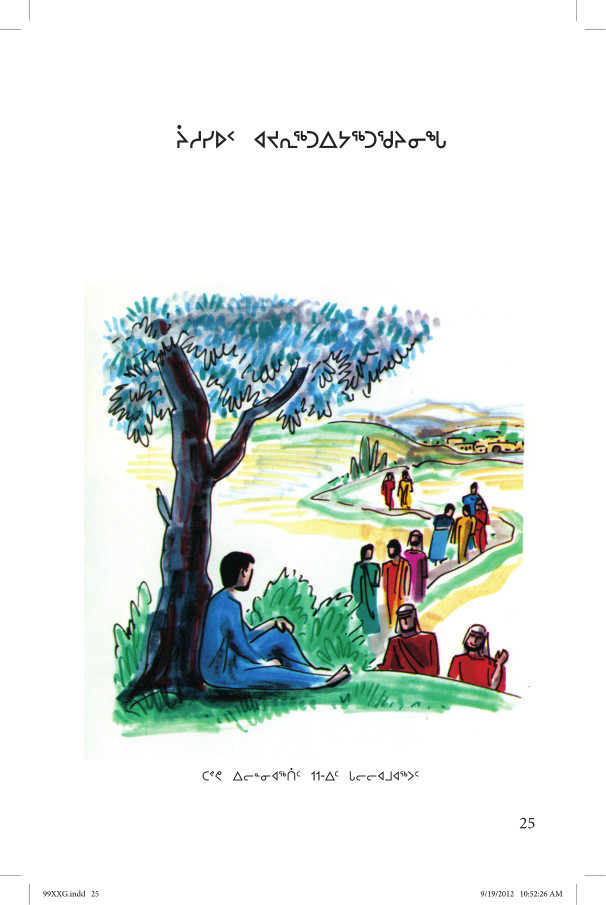inuktitut: (165, 111, 456, 157), (193, 760, 425, 789)
